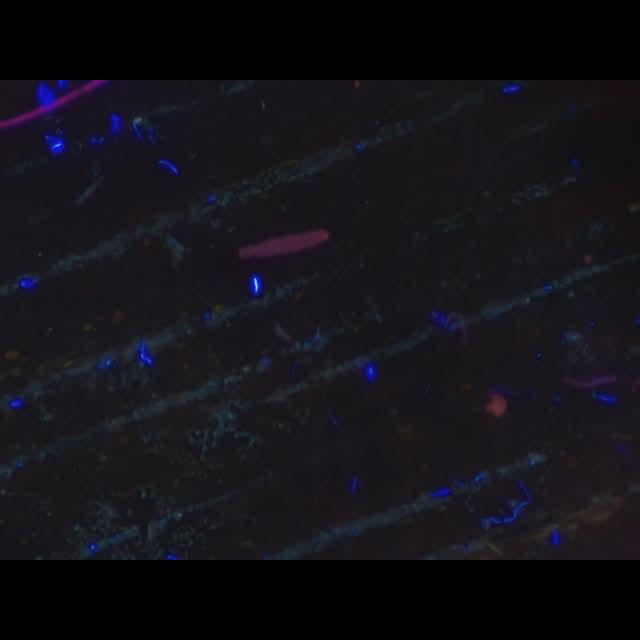Fragment: (240, 230, 328, 260)
